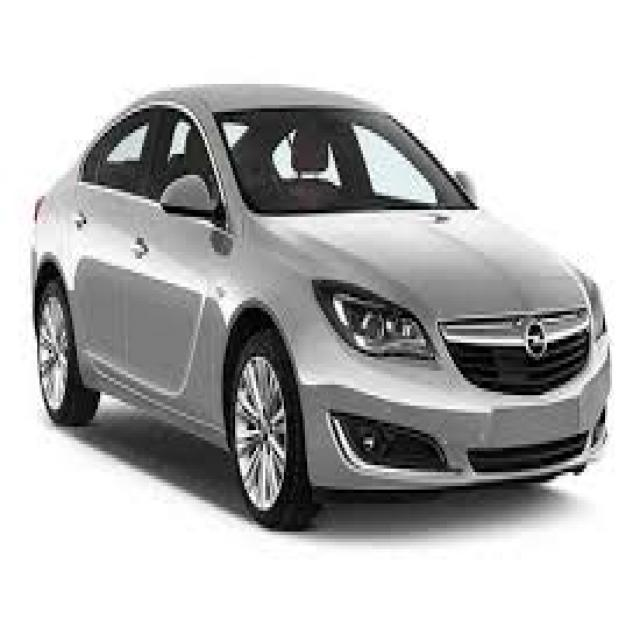Car: (29, 77, 619, 532)
